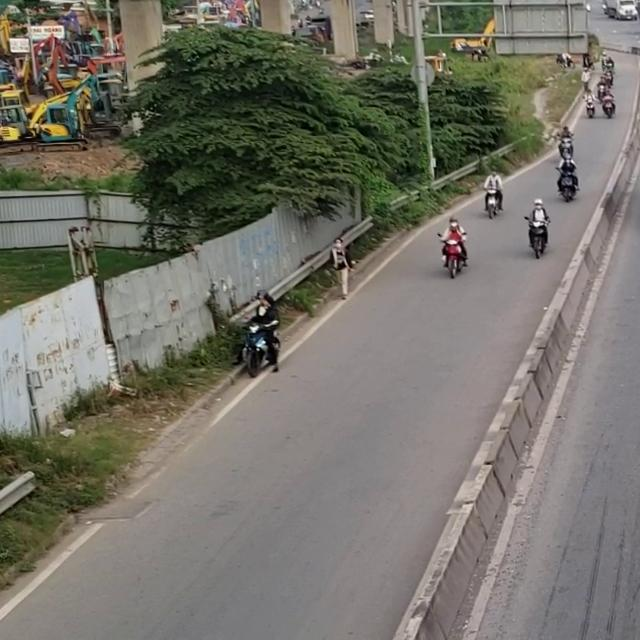Motorcycle: (238, 319, 280, 378), (437, 231, 468, 278), (523, 215, 550, 259), (555, 165, 579, 202), (483, 187, 503, 219), (557, 135, 574, 162)
